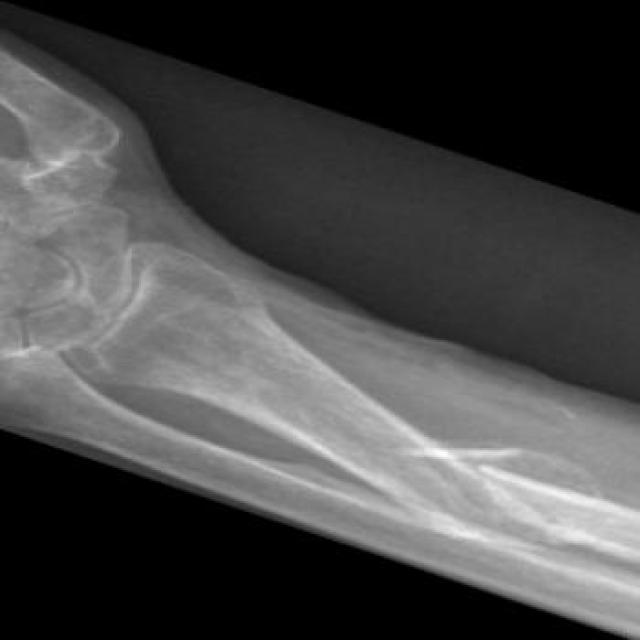Fracture: (397, 456, 608, 538)
